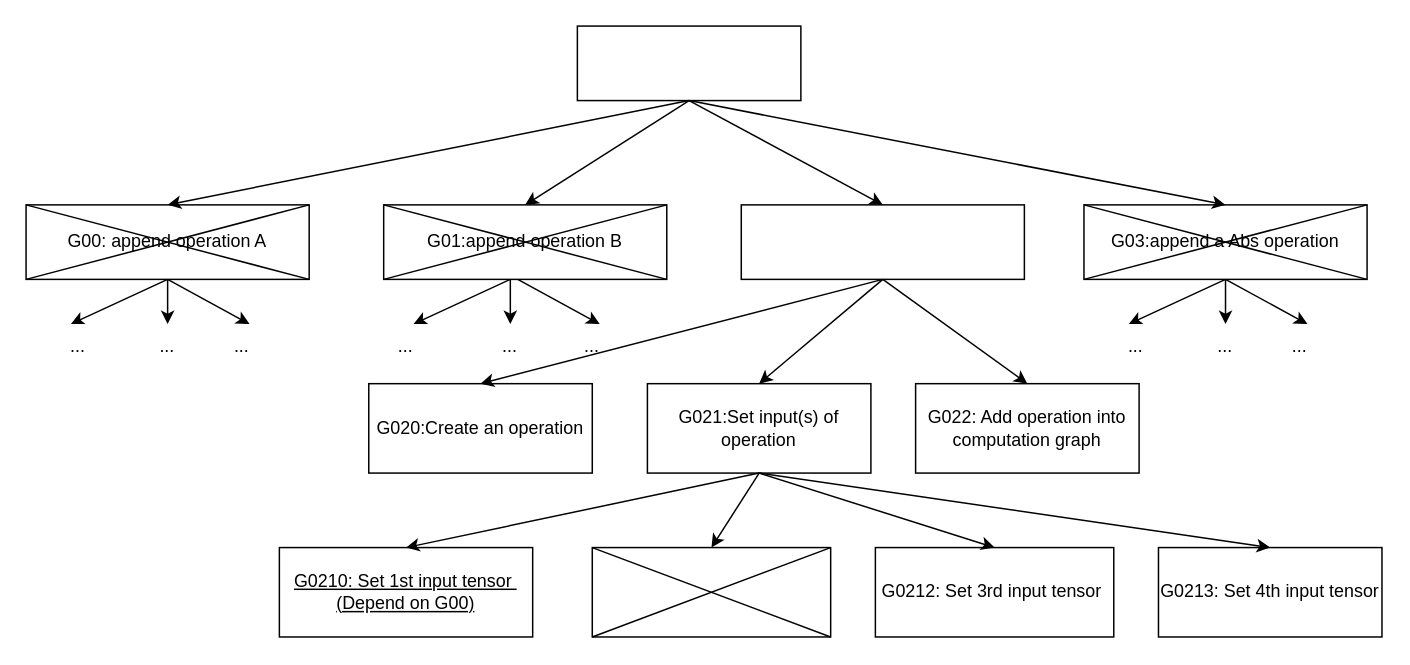
The diagram is 1410 pixels wide and 665 high, and some of its shapes have lost their labels. Each missing label, with the centre of its shape:
"G0" belongs at point (688, 63).
"G0211: Set 2nd input tensor (Depend on G01)" belongs at point (711, 591).
"G02:append a Sum operation" belongs at point (882, 241).
